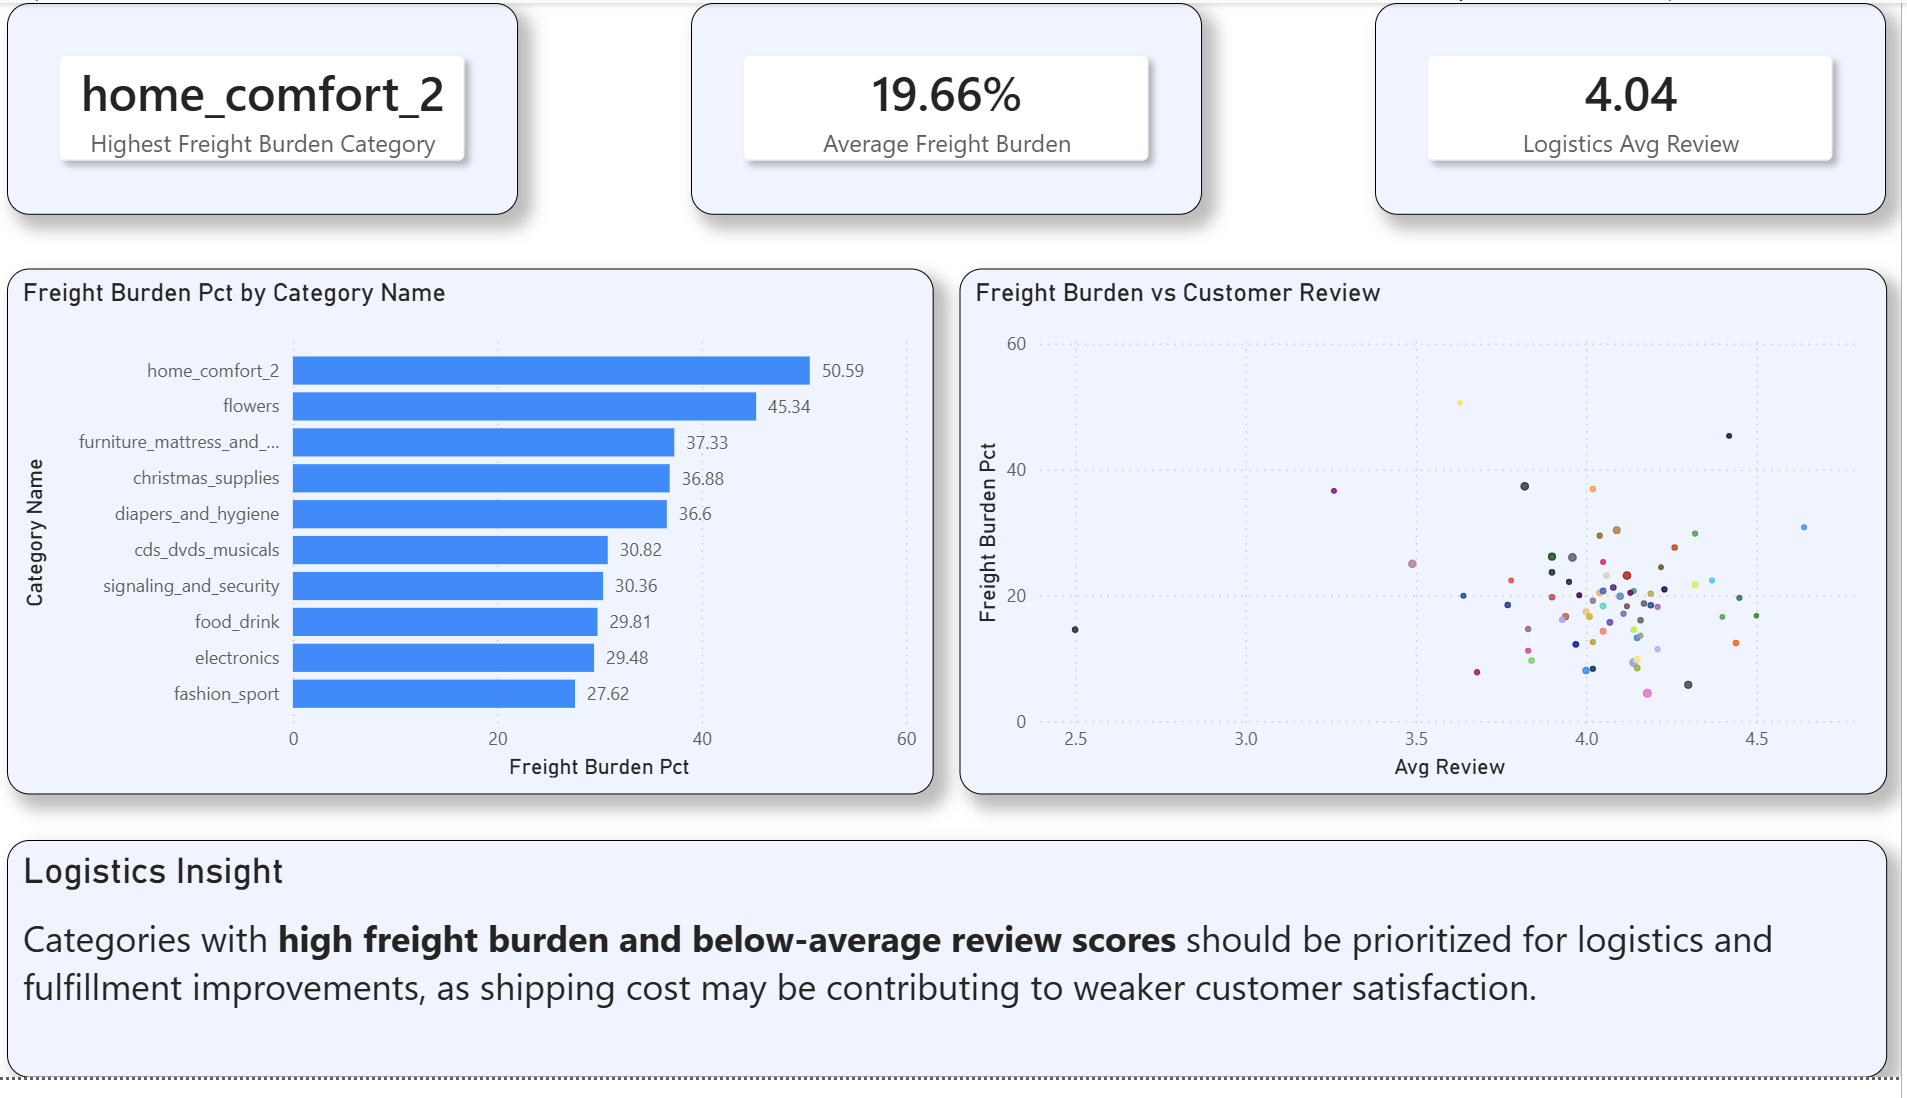

This screenshot's page, from the dashboard's own definition file:
{"tool":"powerbi","page":{"name":"Logistics Burden Analysis","canvas":[1280,720],"ordinal":4},"visuals":[{"type":"cardVisual","fields":{"Data":["logistics_burden_analysis.Highest Freight Burden Category"]},"box":[9.8,0,342.7,141.9],"z":0},{"type":"cardVisual","fields":{"Data":["logistics_burden_analysis.Average Freight Burden"]},"box":[468.8,0,342.7,141.9],"z":1000},{"type":"cardVisual","fields":{"Data":["logistics_burden_analysis.Logistics Avg Review"]},"box":[927.8,0,342.7,141.9],"z":2000},{"type":"clusteredBarChart","fields":{"Category":["logistics_burden_analysis.category_name"],"Y":["Sum(logistics_burden_analysis.freight_burden_pct)"]},"box":[9.8,177.9,621.1,352.6],"z":3000},{"type":"scatterChart","title":"Freight Burden vs Customer Review","fields":{"X":["Sum(logistics_burden_analysis.avg_review)"],"Y":["Sum(logistics_burden_analysis.freight_burden_pct)"],"Series":["logistics_burden_analysis.category_name"],"Size":["Sum(logistics_burden_analysis.avg_freight_value)"]},"box":[648.4,177.9,622.2,352.6],"z":4000},{"type":"textbox","title":"Logistics Insight","box":[9.8,561.1,1260.7,159.4],"z":5000}]}

Visuals, with their boxes in screenshot pixels (x1, y1, x2, y2), scaled from the page's 1280x720 canvas onto the 1907x1098 screenshot:
cardVisual - logistics_burden_analysis.Highest Freight Burden Category: left=15, top=0, right=525, bottom=216
cardVisual - logistics_burden_analysis.Average Freight Burden: left=698, top=0, right=1209, bottom=216
cardVisual - logistics_burden_analysis.Logistics Avg Review: left=1382, top=0, right=1893, bottom=216
clusteredBarChart - logistics_burden_analysis.category_name x Sum(logistics_burden_analysis.freight_burden_pct): left=15, top=271, right=940, bottom=809
"Freight Burden vs Customer Review" scatterChart: left=966, top=271, right=1893, bottom=809
"Logistics Insight" textbox: left=15, top=856, right=1893, bottom=1097
